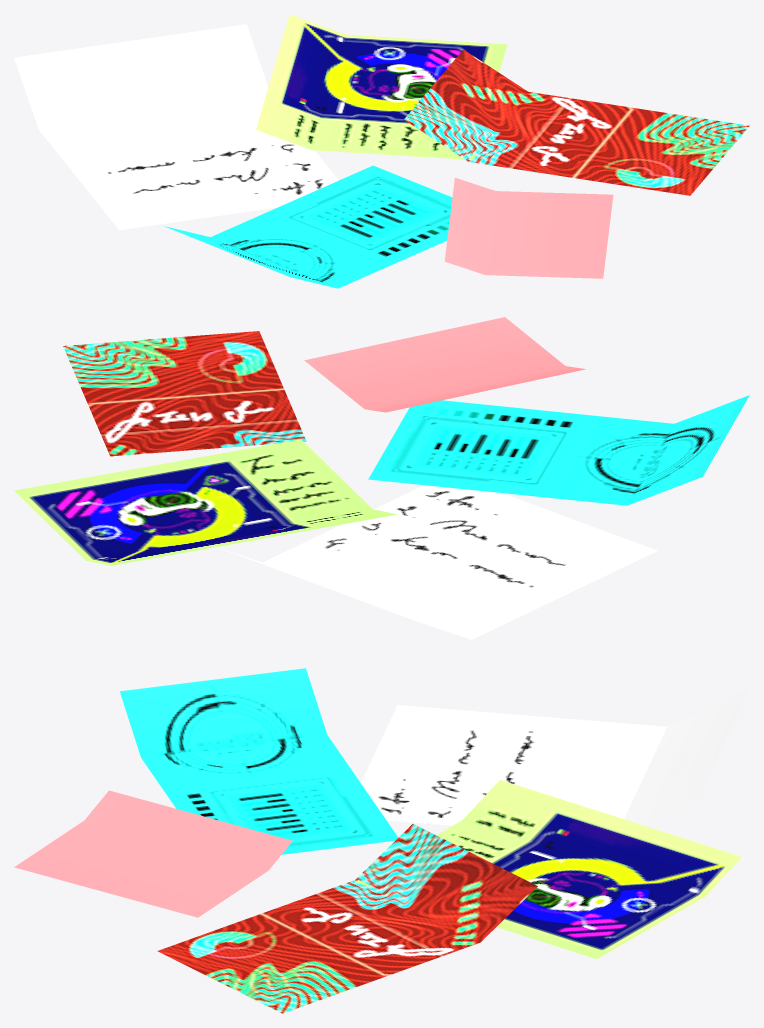
The model's file is obj_stickers02.gltf.
3 renders of one model, top to bottom at view 1: azimuth 30°, elevation 25°; view 2: azimuth 150°, elevation 25°; view 3: azimuth 270°, elevation 25°, orthographic. The views are drawn at different scales.
Visible parts, largest first — view 1: obj_stickers02; view 2: obj_stickers02; view 3: obj_stickers02.
Boxes of the visible parts, bbox=[...] form: obj_stickers02: bbox=[14, 14, 749, 288]; obj_stickers02: bbox=[14, 317, 749, 639]; obj_stickers02: bbox=[14, 668, 749, 1013].
Size of what is drawn, in the model's own units: 0.5312 by 0.0369 by 0.532.
Materials: 2 (2 with a texture image).
